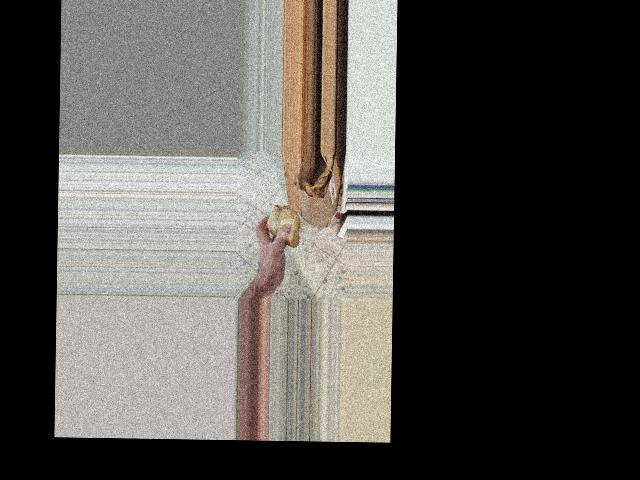onion: (263, 204, 302, 249)
